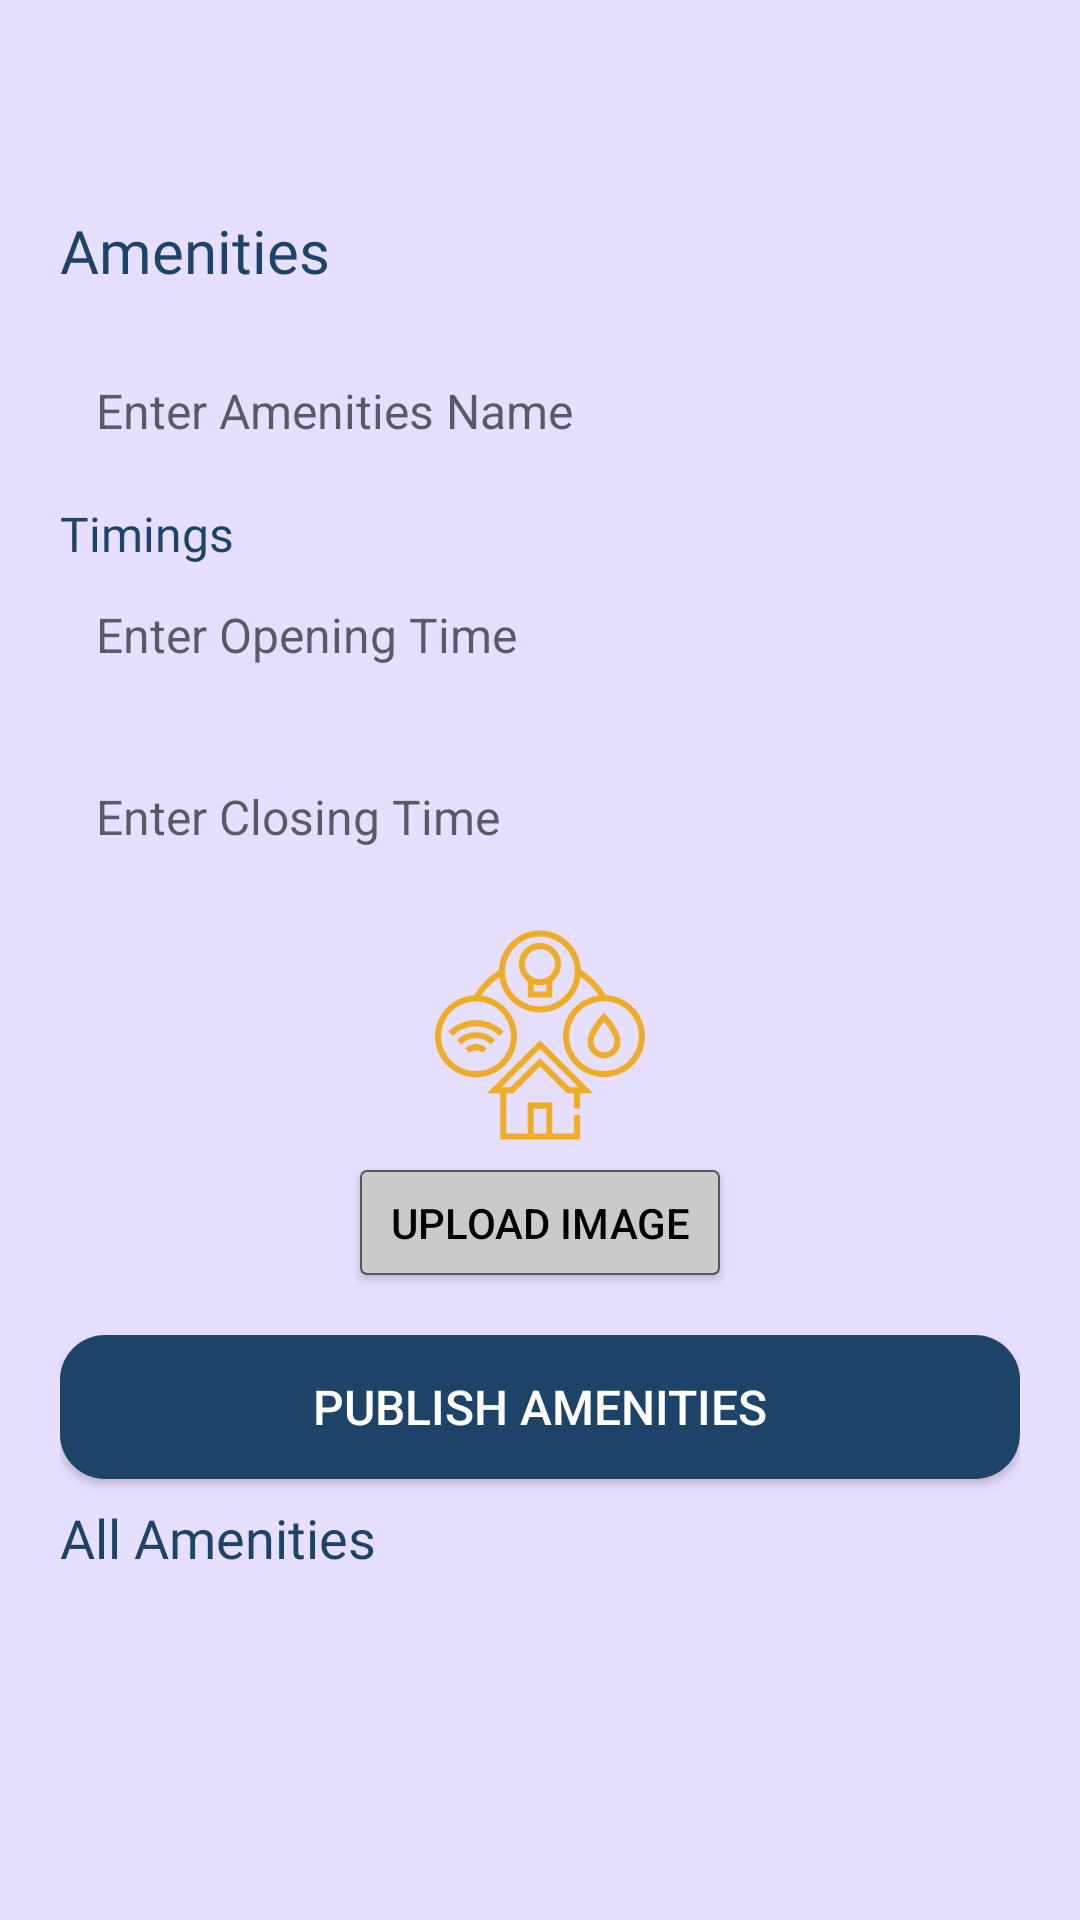

Where to tap for icons on this 1080×1920 app screen, as point (x, y):
amenities: point (540, 1035)
